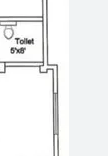window: (48, 91, 64, 137)
